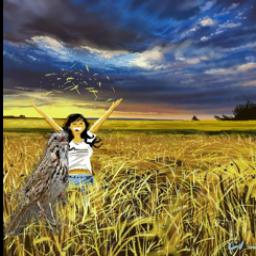Sparrow: (4, 131, 69, 237)
